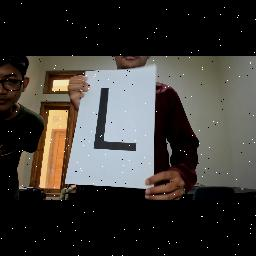l: (88, 82, 142, 156)
